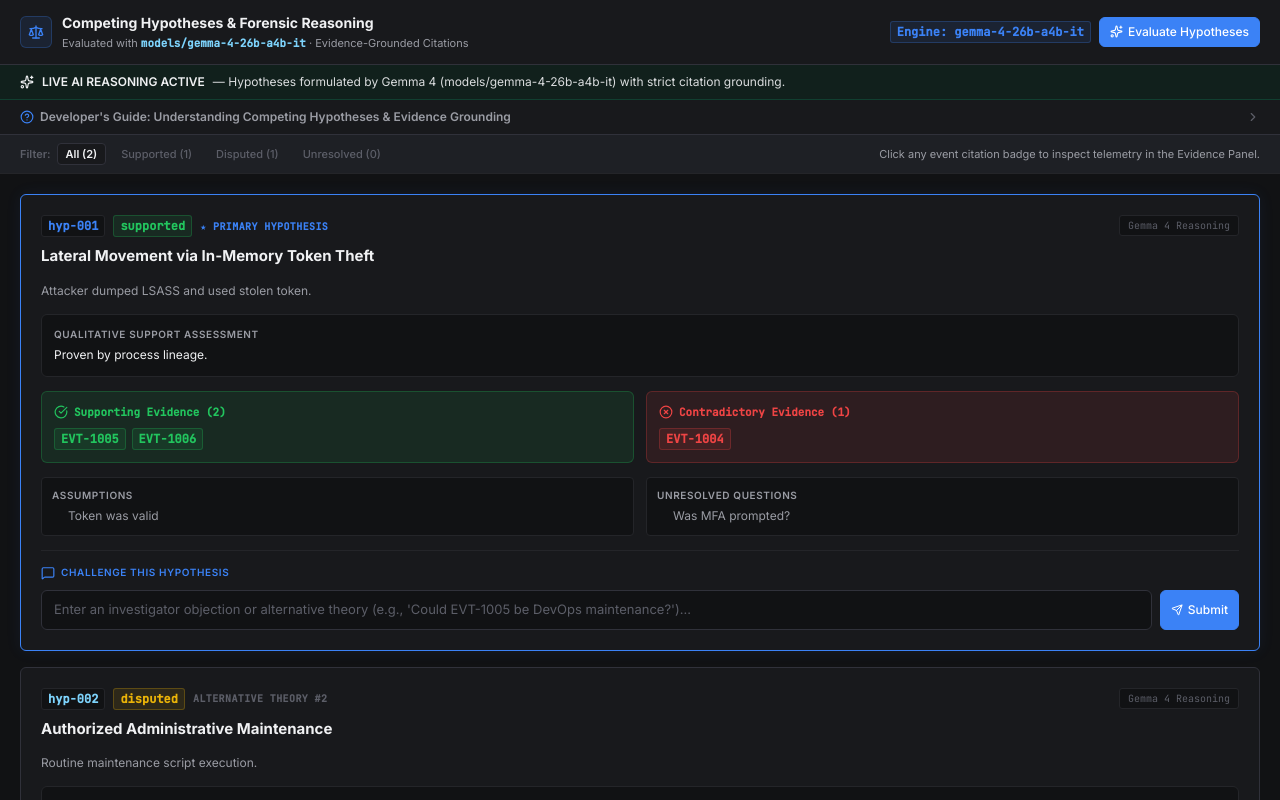
Test: HypothesesView Component › submits a challenge and renders forensic reassessment output
Replace the text in the field with placeholder "Enter an investigator objection" with "Could this be an approved backup job?" at (596, 610), box [41, 590, 1152, 630]
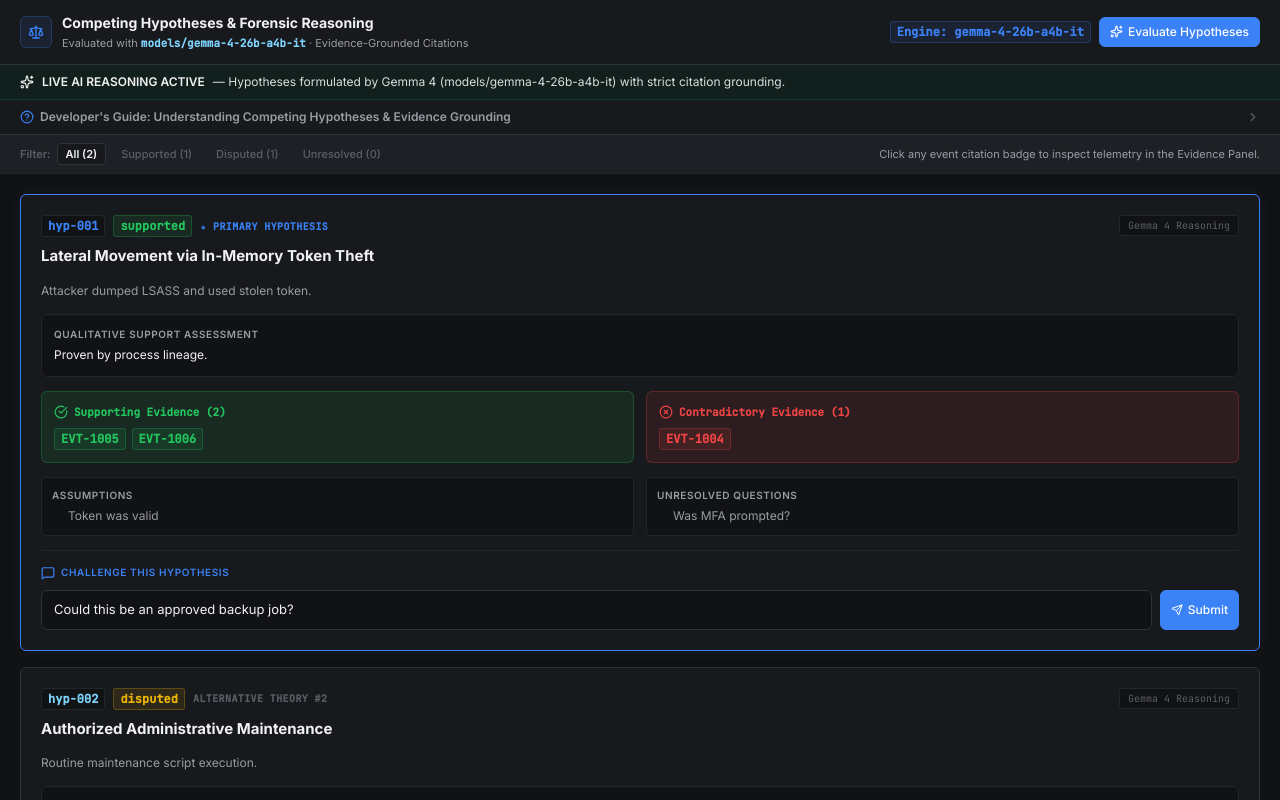
Click the button "Submit".
click(1199, 610)  # box [1160, 590, 1239, 630]
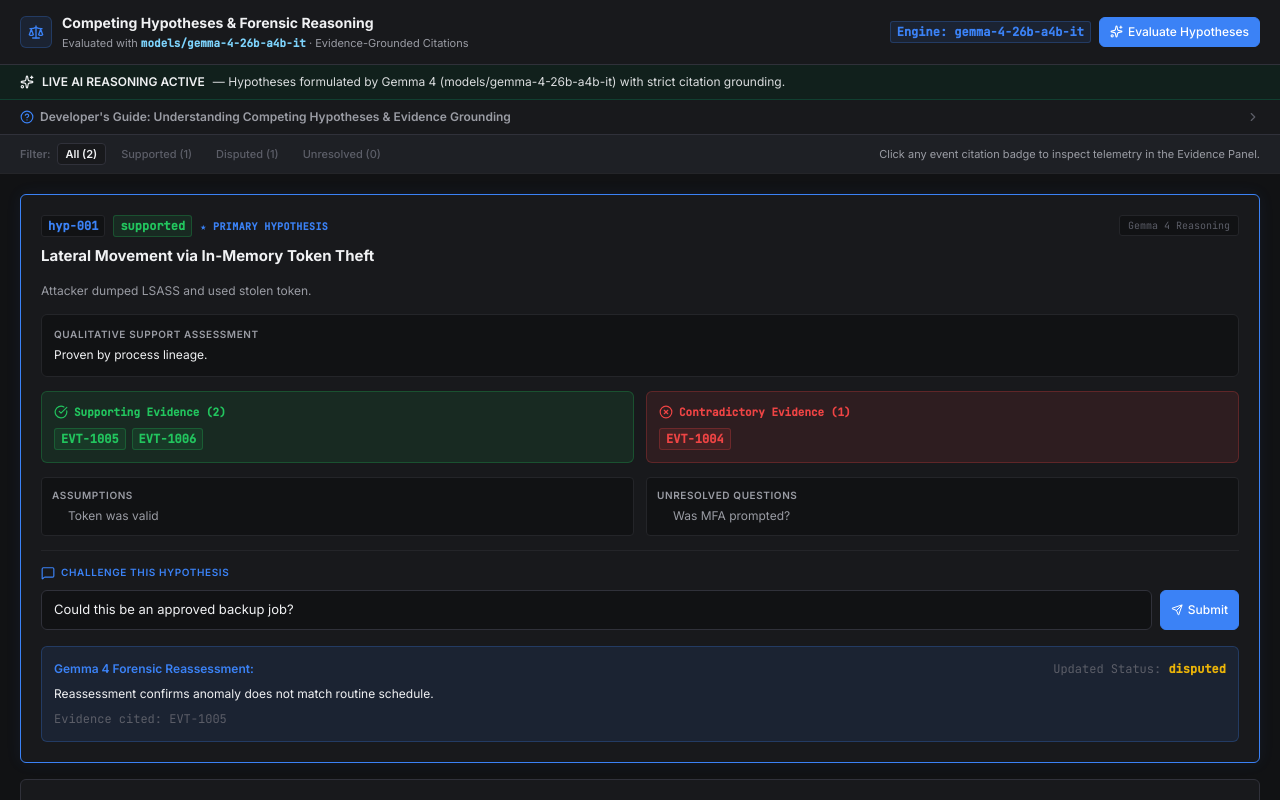
Now the text "Gemma 4 Forensic Reassessment:" is shown, box [54, 660, 254, 678]
Now the text "Reassessment confirms anomaly does not match routine schedule" is shown, box [54, 686, 434, 701]
